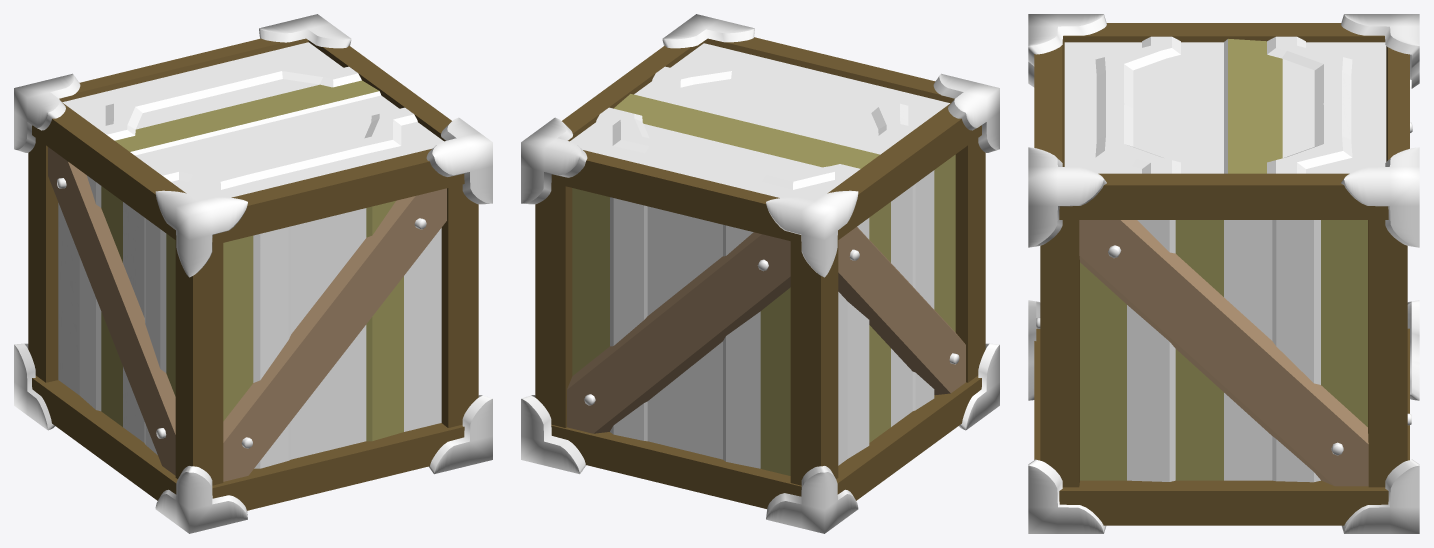
Rendered from crate_metal.glb.
3 views of the same model, side by side, from view 1: azimuth 30°, elevation 25°; view 2: azimuth 150°, elevation 25°; view 3: azimuth 270°, elevation 25° (orthographic). The views are drawn at different scales.
Parts seen in each view (by area): view 1: Crate_Metal; view 2: Crate_Metal; view 3: Crate_Metal.
Boxes of the visible parts, x1,y1,x2,y2 form: Crate_Metal: (14, 14, 492, 533); Crate_Metal: (521, 14, 999, 533); Crate_Metal: (1028, 14, 1419, 533).
Size of the model in its own units: 1 by 1 by 1.
